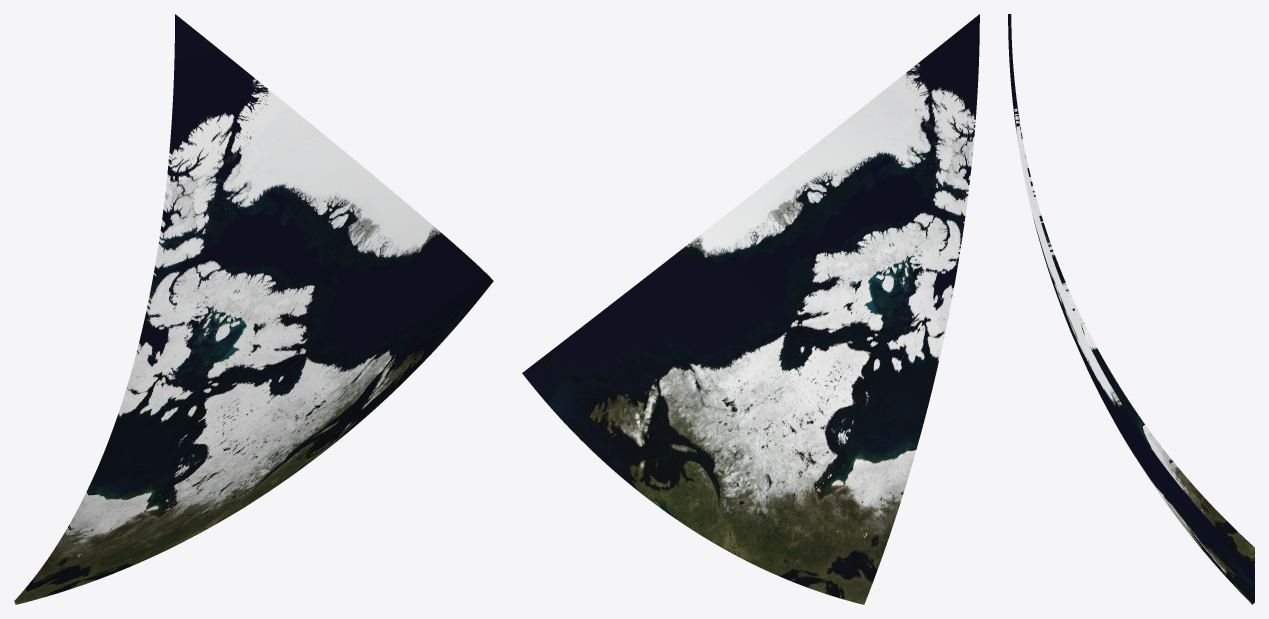
3 views of the same model, side by side, from view 1: azimuth 30°, elevation 25°; view 2: azimuth 150°, elevation 25°; view 3: azimuth 270°, elevation 25° (orthographic). The views are drawn at different scales.
Parts seen in each view (by area): view 1: DefaultName.003, DefaultName.006, DefaultName.012, DefaultName.009; view 2: DefaultName.006, DefaultName.003, DefaultName.009, DefaultName.012; view 3: DefaultName.006, DefaultName.003, DefaultName.009, DefaultName.012.
Boxes of the visible parts, left/top/right/bottom form: DefaultName.003: left=14, top=305, right=287, bottom=604; DefaultName.006: left=274, top=193, right=493, bottom=487; DefaultName.012: left=133, top=14, right=275, bottom=367; DefaultName.009: left=177, top=16, right=393, bottom=304; DefaultName.006: left=522, top=185, right=848, bottom=520; DefaultName.003: left=679, top=265, right=949, bottom=604; DefaultName.009: left=764, top=15, right=977, bottom=264; DefaultName.012: left=849, top=14, right=979, bottom=310; DefaultName.006: left=1071, top=314, right=1254, bottom=604; DefaultName.003: left=1074, top=303, right=1254, bottom=566; DefaultName.009: left=1008, top=14, right=1074, bottom=333; DefaultName.012: left=1011, top=40, right=1074, bottom=313.
Size of the model in its own units: 31944 by 45179 by 18870.
Materials: 4 (4 with a texture image).
